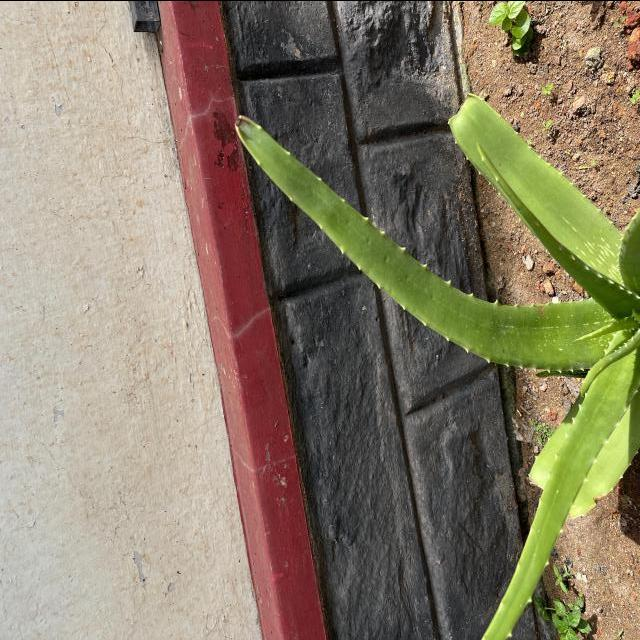Aloe vera: (230, 106, 612, 380)
